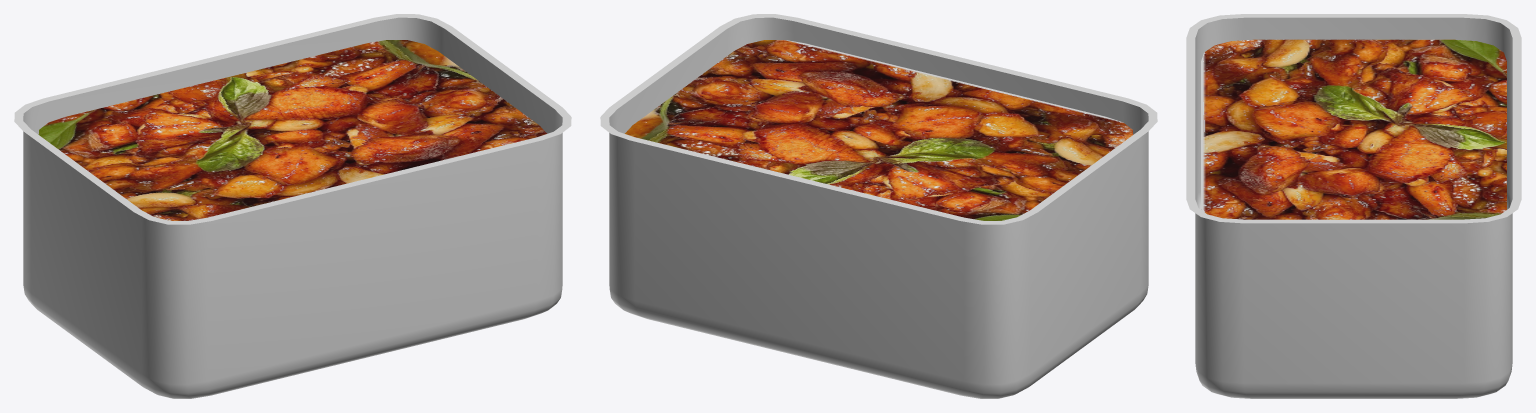
Rendered from tssbjgf.FBX.
3 views of the same model, side by side, from view 1: azimuth 30°, elevation 25°; view 2: azimuth 150°, elevation 25°; view 3: azimuth 270°, elevation 25° (orthographic).
Visible parts, largest first — view 1: Box001; view 2: Box001; view 3: Box001.
Boxes of the visible parts, x1,y1,x2,y2 form: Box001: (14,14,571,398); Box001: (600,14,1157,398); Box001: (1186,14,1521,398).
Bounding box in the file's own units: 0.1169 × 0.0481 × 0.0791.
